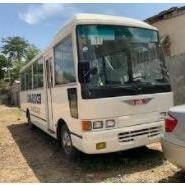bus: (21, 15, 175, 159)
